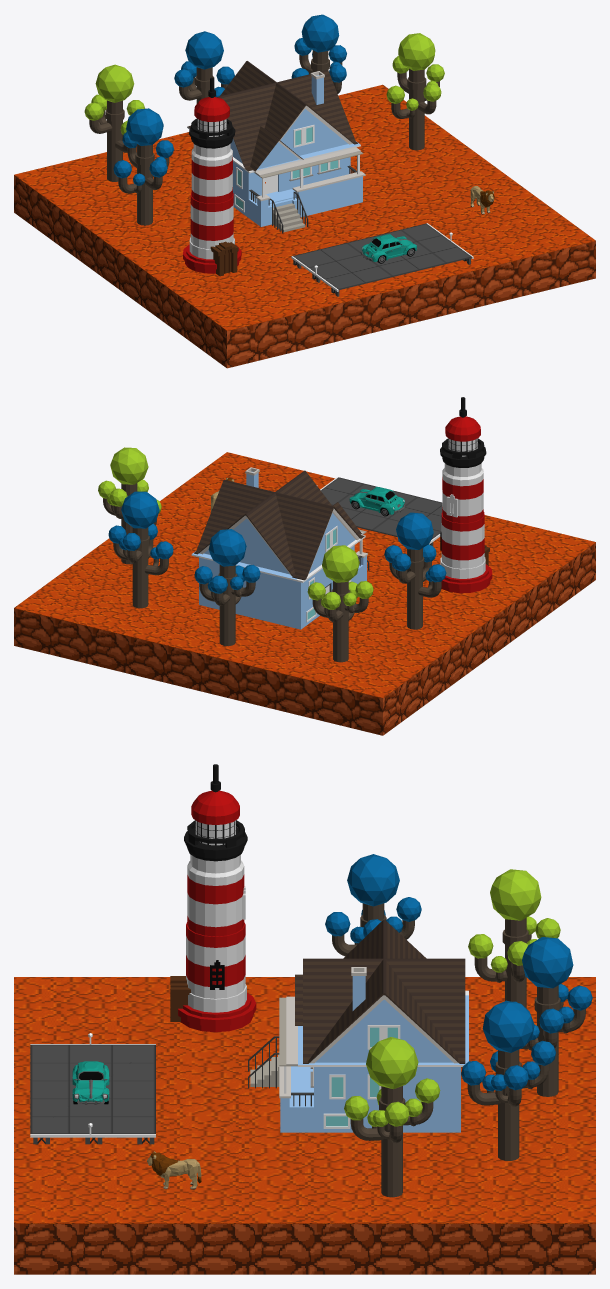
The picture shows the model from 3 angles, top to bottom: view 1: azimuth 30°, elevation 25°; view 2: azimuth 150°, elevation 25°; view 3: azimuth 270°, elevation 25°; orthographic projection. The views are drawn at different scales.
Visible parts, largest first — view 1: Cube.001, Cube.1594, OBJRANDOM_LIGHTHOUSE, VEHICLES_VOLKSWAGEN, ANIMAL_LEON; view 2: Cube.001, Cube.1594, OBJRANDOM_LIGHTHOUSE, VEHICLES_VOLKSWAGEN; view 3: Cube.001, Cube.1594, OBJRANDOM_LIGHTHOUSE, VEHICLES_VOLKSWAGEN, ANIMAL_LEON.
Part boxes in pixels (x1,y1,x2,y2): Cube.001: (14, 14, 595, 368); Cube.1594: (187, 61, 365, 233); OBJRANDOM_LIGHTHOUSE: (183, 77, 241, 276); VEHICLES_VOLKSWAGEN: (360, 234, 417, 263); ANIMAL_LEON: (470, 186, 494, 214); Cube.001: (14, 447, 595, 735); Cube.1594: (191, 467, 369, 629); OBJRANDOM_LIGHTHOUSE: (440, 397, 492, 593); VEHICLES_VOLKSWAGEN: (349, 486, 405, 516); Cube.001: (14, 854, 595, 1274); Cube.1594: (248, 919, 468, 1132); OBJRANDOM_LIGHTHOUSE: (170, 764, 256, 1032); VEHICLES_VOLKSWAGEN: (72, 1061, 109, 1104); ANIMAL_LEON: (147, 1151, 201, 1189).
Bounding box in the file's own units: 4000 × 2476 × 4000.
Materials: 38 (4 with a texture image).
